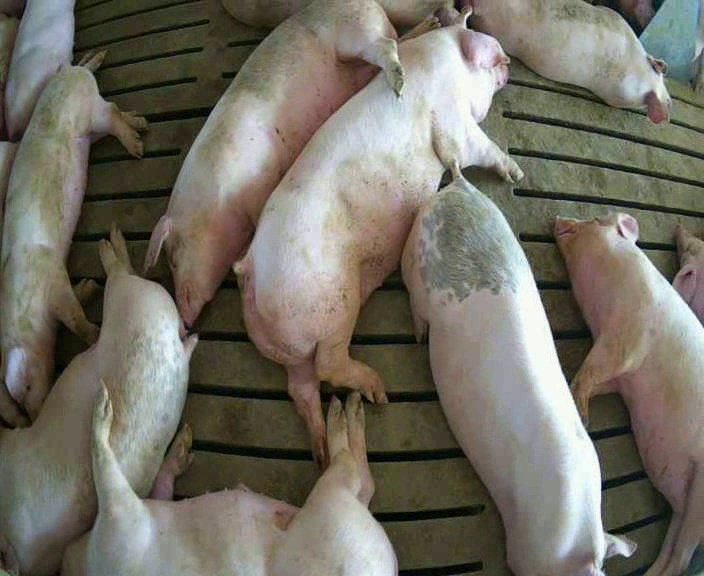pig: (235, 8, 522, 463), (402, 163, 635, 574), (145, 2, 440, 326), (0, 229, 196, 573), (63, 386, 396, 573), (555, 213, 703, 574), (0, 53, 145, 418), (459, 1, 670, 123), (5, 2, 73, 140)
